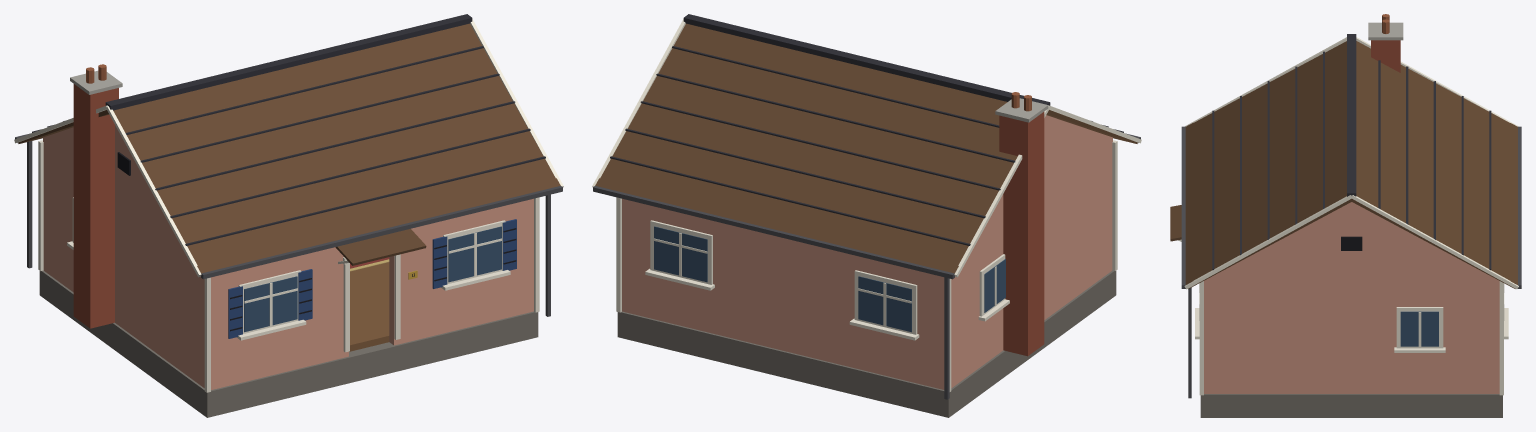
File: house.c.glb
The picture shows the model from 3 angles, left to right: view 1: azimuth 30°, elevation 25°; view 2: azimuth 150°, elevation 25°; view 3: azimuth 270°, elevation 25°; orthographic projection. The views are drawn at different scales.
Parts seen in each view (by area): view 1: roof-front, wall-left, foundation, wall-front-1, wall-front1, chimney, ridge, floor, gable-1, gutter1, wf-2.5-glass, wf2.5-glass (+23 smaller); view 2: roof-back, wall-back, wall-left, foundation, chimney, ridge, gable-1, gutter-1, wb-2.5-glass, wb2.5-glass, tiles-b2, tiles-b1 (+13 smaller); view 3: wall-right, roof-front, roof-back, gable1, foundation, ridge, ws1-glass, barge11, barge1-1, wall-back, wall-front1, gutter1 (+19 smaller).
Part boxes in pixels (bbox=[...]): roof-front: bbox=[113, 23, 560, 273]; wall-left: bbox=[47, 145, 203, 386]; foundation: bbox=[39, 270, 538, 417]; wall-front-1: bbox=[203, 247, 348, 389]; wall-front1: bbox=[389, 198, 533, 345]; chimney: bbox=[73, 84, 118, 328]; ridge: bbox=[105, 14, 472, 110]; floor: bbox=[349, 262, 389, 351]; gable-1: bbox=[43, 125, 177, 240]; gutter1: bbox=[201, 186, 562, 279]; wf-2.5-glass: bbox=[244, 276, 297, 332]; wf2.5-glass: bbox=[448, 226, 501, 282]; roof-back: bbox=[595, 23, 1017, 273]; wall-back: bbox=[622, 198, 952, 389]; wall-left: bbox=[952, 145, 1108, 386]; foundation: bbox=[617, 270, 1116, 417]; chimney: bbox=[999, 112, 1044, 356]; ridge: bbox=[683, 14, 1050, 105]; gable-1: bbox=[978, 115, 1112, 240]; gutter-1: bbox=[593, 186, 954, 279]; wb-2.5-glass: bbox=[858, 276, 911, 332]; wb2.5-glass: bbox=[654, 226, 707, 282]; tiles-b2: bbox=[625, 128, 985, 218]; tiles-b1: bbox=[610, 156, 970, 245]; wall-right: bbox=[1211, 278, 1492, 393]; roof-front: bbox=[1185, 41, 1354, 288]; roof-back: bbox=[1350, 41, 1517, 288]; gable1: bbox=[1210, 202, 1493, 277]; foundation: bbox=[1200, 394, 1502, 417]; ridge: bbox=[1347, 34, 1356, 196]; ws1-glass: bbox=[1400, 311, 1438, 346]; barge11: bbox=[1184, 195, 1351, 289]; barge1-1: bbox=[1351, 195, 1518, 289]; wall-back: bbox=[1492, 278, 1499, 393]; wall-front1: bbox=[1204, 278, 1211, 393]; gutter1: bbox=[1181, 126, 1185, 288].
Bounding box in the file's own units: 9.12 × 6.48 × 8.25.
